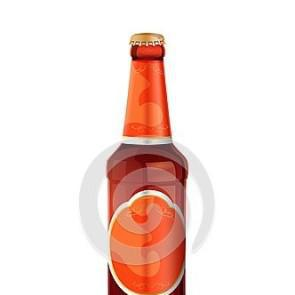beer: (105, 33, 189, 295)
